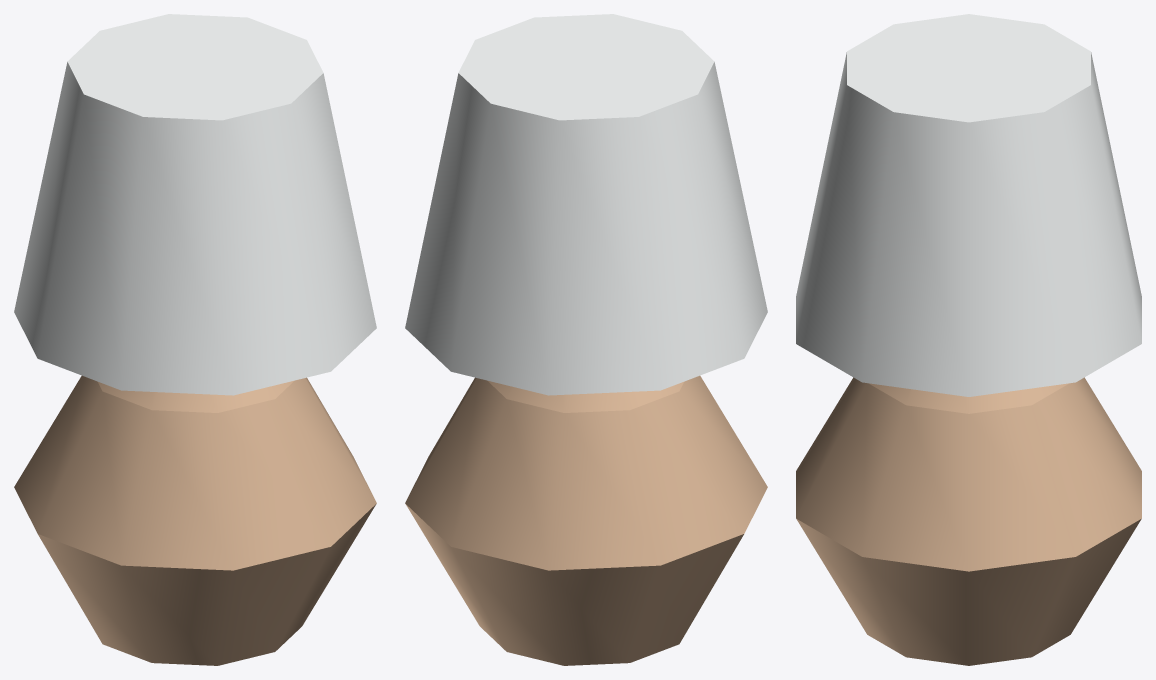
File: lampGourd.glb
The picture shows the model from 3 angles, left to right: view 1: azimuth 30°, elevation 25°; view 2: azimuth 150°, elevation 25°; view 3: azimuth 270°, elevation 25°; orthographic projection.
Visible parts, largest first — view 1: lampGourd; view 2: lampGourd; view 3: lampGourd.
Boxes of the visible parts, left/top/right/bottom form: lampGourd: left=14, top=14, right=376, bottom=665; lampGourd: left=405, top=14, right=767, bottom=665; lampGourd: left=796, top=14, right=1141, bottom=665.
Bounding box in the file's own units: 0.17 × 0.29 × 0.1617.
